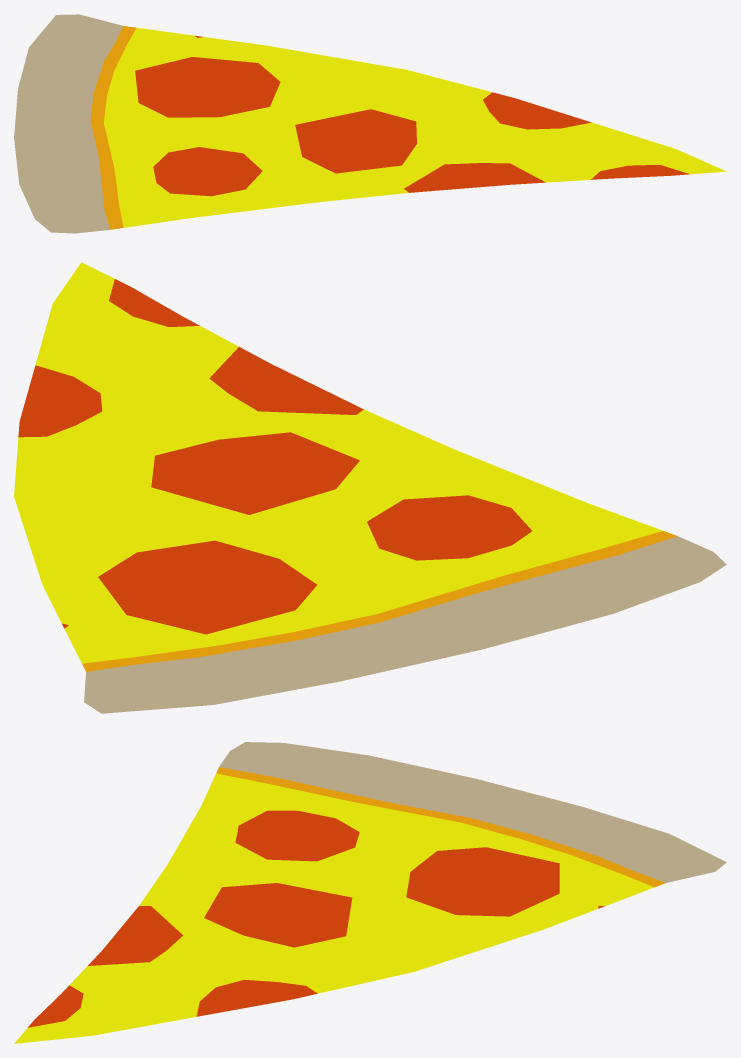
File: pizza.glb
3 views of the same model, one above another, from view 1: azimuth 30°, elevation 25°; view 2: azimuth 150°, elevation 25°; view 3: azimuth 270°, elevation 25° (orthographic). The views are drawn at different scales.
Visible parts, largest first — view 1: Plane.001; view 2: Plane.001; view 3: Plane.001.
Boxes of the visible parts, x1=… form: Plane.001: x1=14, y1=14, x2=726, y2=233; Plane.001: x1=14, y1=262, x2=726, y2=713; Plane.001: x1=14, y1=742, x2=726, y2=1043.
Size of the model in its own units: 1.72 by 0 by 1.72.
